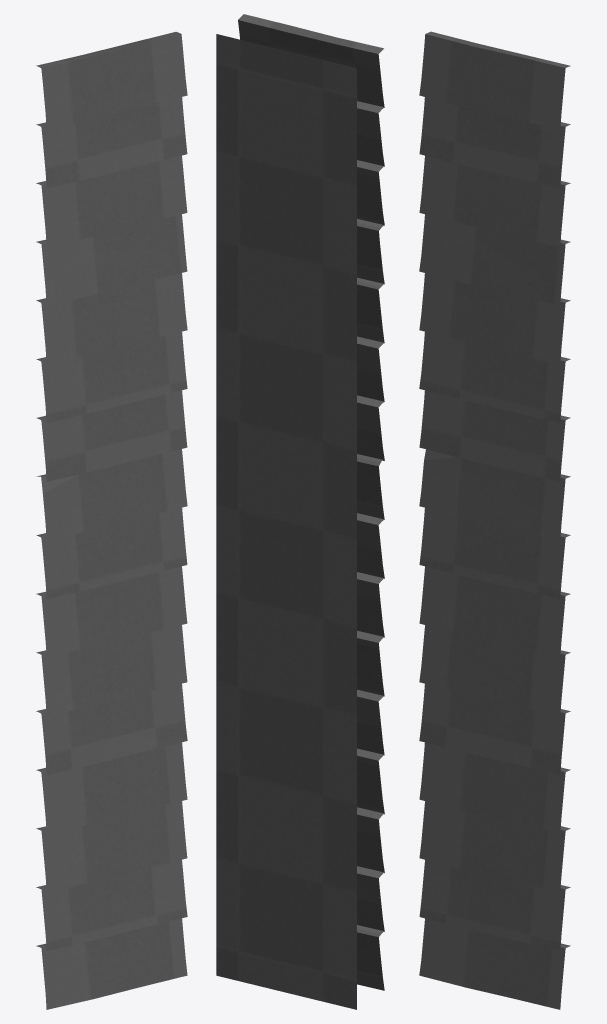
Rendered from SM_House_ExtWall_50CM2.glb.
3 views of the same model, side by side, from view 1: azimuth 30°, elevation 25°; view 2: azimuth 150°, elevation 25°; view 3: azimuth 330°, elevation 25° (orthographic).
Visible parts, largest first — view 1: SM_House_ExtWall_50CM2; view 2: SM_House_ExtWall_50CM2; view 3: SM_House_ExtWall_50CM2.
Part boxes in pixels (x1,y1,x2,y2): SM_House_ExtWall_50CM2: (36, 32, 187, 1009); SM_House_ExtWall_50CM2: (216, 14, 384, 1009); SM_House_ExtWall_50CM2: (419, 31, 570, 1009).
Size of the model in its own units: 50.37 by 320 by 20.33.
Materials: 1 (1 with a texture image).
